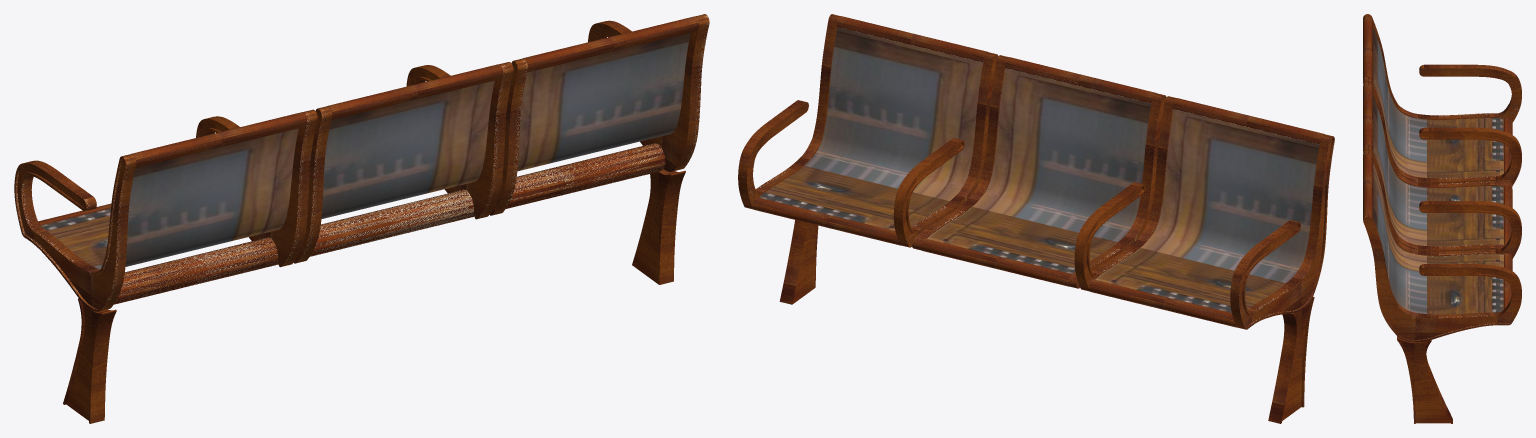
3 views of the same model, side by side, from view 1: azimuth 30°, elevation 25°; view 2: azimuth 150°, elevation 25°; view 3: azimuth 270°, elevation 25° (orthographic). The views are drawn at different scales.
Visible parts, largest first — view 1: mesh2_mesh2-geometry, mesh7_mesh7-geometry, mesh14_mesh14-geometry, mesh11_mesh11-geometry, mesh1_mesh1-geometry, mesh5_mesh5-geometry, mesh4_mesh4-geometry, mesh10_mesh10-geometry, mesh12_mesh12-geometry, mesh13_mesh13-geometry, mesh9_mesh9-geometry, mesh6_mesh6-geometry (+1 smaller); view 2: mesh14_mesh14-geometry, mesh2_mesh2-geometry, mesh7_mesh7-geometry, mesh4_mesh4-geometry, mesh1_mesh1-geometry, mesh5_mesh5-geometry, mesh16_mesh16-geometry, mesh10_mesh10-geometry, mesh9_mesh9-geometry, mesh12_mesh12-geometry, mesh6_mesh6-geometry, mesh13_mesh13-geometry; view 3: mesh2_mesh2-geometry, mesh14_mesh14-geometry, mesh7_mesh7-geometry, mesh10_mesh10-geometry, mesh16_mesh16-geometry, mesh5_mesh5-geometry, mesh1_mesh1-geometry, mesh13_mesh13-geometry, mesh4_mesh4-geometry, mesh9_mesh9-geometry, mesh6_mesh6-geometry.
Boxes of the visible parts, bbox=[...] form: mesh2_mesh2-geometry: bbox=[41, 128, 298, 269]; mesh7_mesh7-geometry: bbox=[517, 32, 690, 171]; mesh14_mesh14-geometry: bbox=[321, 80, 494, 219]; mesh11_mesh11-geometry: bbox=[114, 143, 665, 304]; mesh1_mesh1-geometry: bbox=[249, 62, 513, 267]; mesh5_mesh5-geometry: bbox=[14, 154, 136, 311]; mesh4_mesh4-geometry: bbox=[38, 64, 503, 225]; mesh10_mesh10-geometry: bbox=[588, 14, 709, 171]; mesh12_mesh12-geometry: bbox=[63, 298, 116, 423]; mesh13_mesh13-geometry: bbox=[632, 169, 685, 284]; mesh9_mesh9-geometry: bbox=[523, 16, 699, 72]; mesh6_mesh6-geometry: bbox=[489, 58, 528, 215]; mesh14_mesh14-geometry: bbox=[927, 68, 1151, 274]; mesh2_mesh2-geometry: bbox=[1095, 109, 1319, 313]; mesh7_mesh7-geometry: bbox=[759, 27, 982, 230]; mesh4_mesh4-geometry: bbox=[921, 57, 1324, 327]; mesh1_mesh1-geometry: bbox=[912, 55, 1176, 291]; mesh5_mesh5-geometry: bbox=[1230, 134, 1334, 329]; mesh16_mesh16-geometry: bbox=[738, 100, 1145, 290]; mesh10_mesh10-geometry: bbox=[738, 14, 839, 209]; mesh9_mesh9-geometry: bbox=[752, 16, 987, 245]; mesh12_mesh12-geometry: bbox=[1268, 297, 1314, 423]; mesh6_mesh6-geometry: bbox=[900, 52, 998, 247]; mesh13_mesh13-geometry: bbox=[779, 220, 818, 304]; mesh2_mesh2-geometry: bbox=[1373, 27, 1503, 178]; mesh14_mesh14-geometry: bbox=[1373, 95, 1503, 246]; mesh7_mesh7-geometry: bbox=[1373, 163, 1503, 314]; mesh10_mesh10-geometry: bbox=[1363, 213, 1521, 342]; mesh16_mesh16-geometry: bbox=[1419, 127, 1521, 320]; mesh5_mesh5-geometry: bbox=[1363, 14, 1521, 122]; mesh1_mesh1-geometry: bbox=[1363, 77, 1512, 251]; mesh13_mesh13-geometry: bbox=[1397, 336, 1452, 423]; mesh4_mesh4-geometry: bbox=[1363, 17, 1512, 244]; mesh9_mesh9-geometry: bbox=[1363, 153, 1512, 309]; mesh6_mesh6-geometry: bbox=[1363, 150, 1511, 256].
Size of the model in its own units: 0.8649 by 0.4122 by 0.2865.
